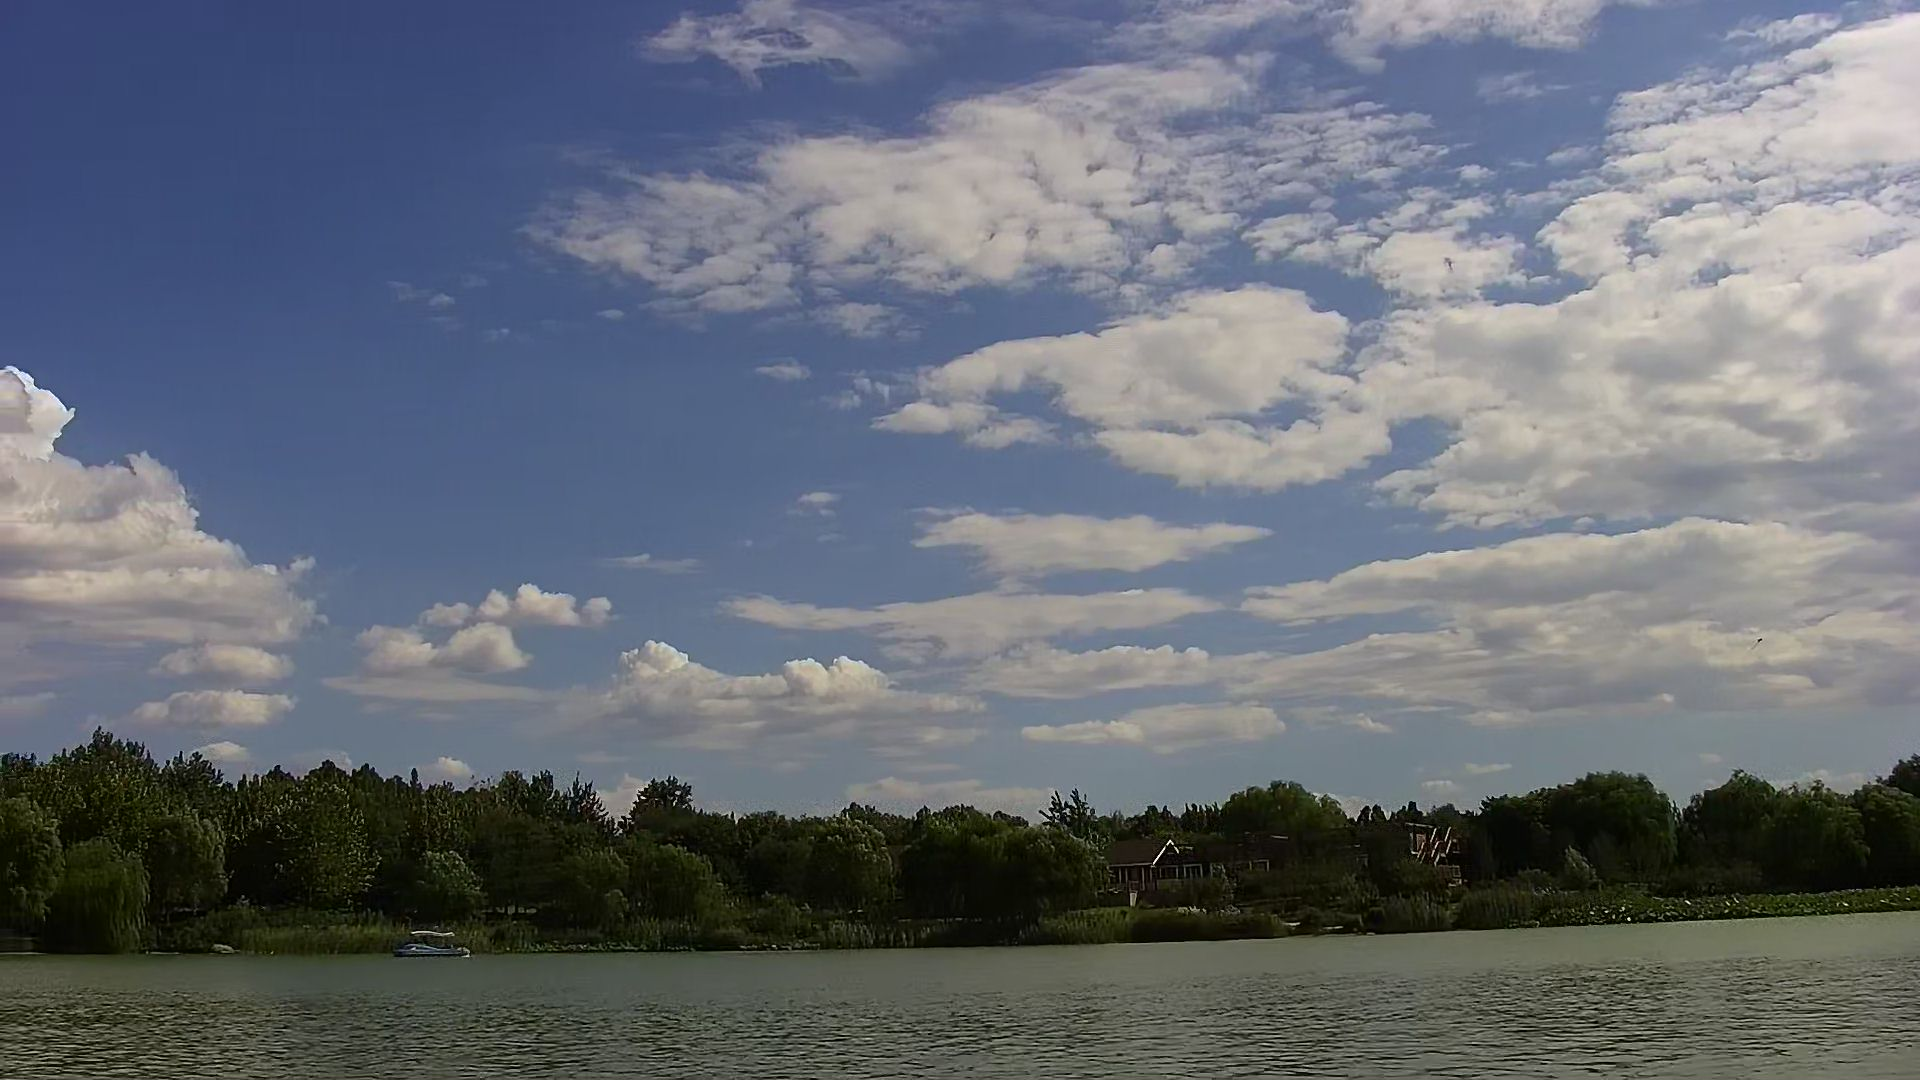boat: (386, 924, 483, 961)
